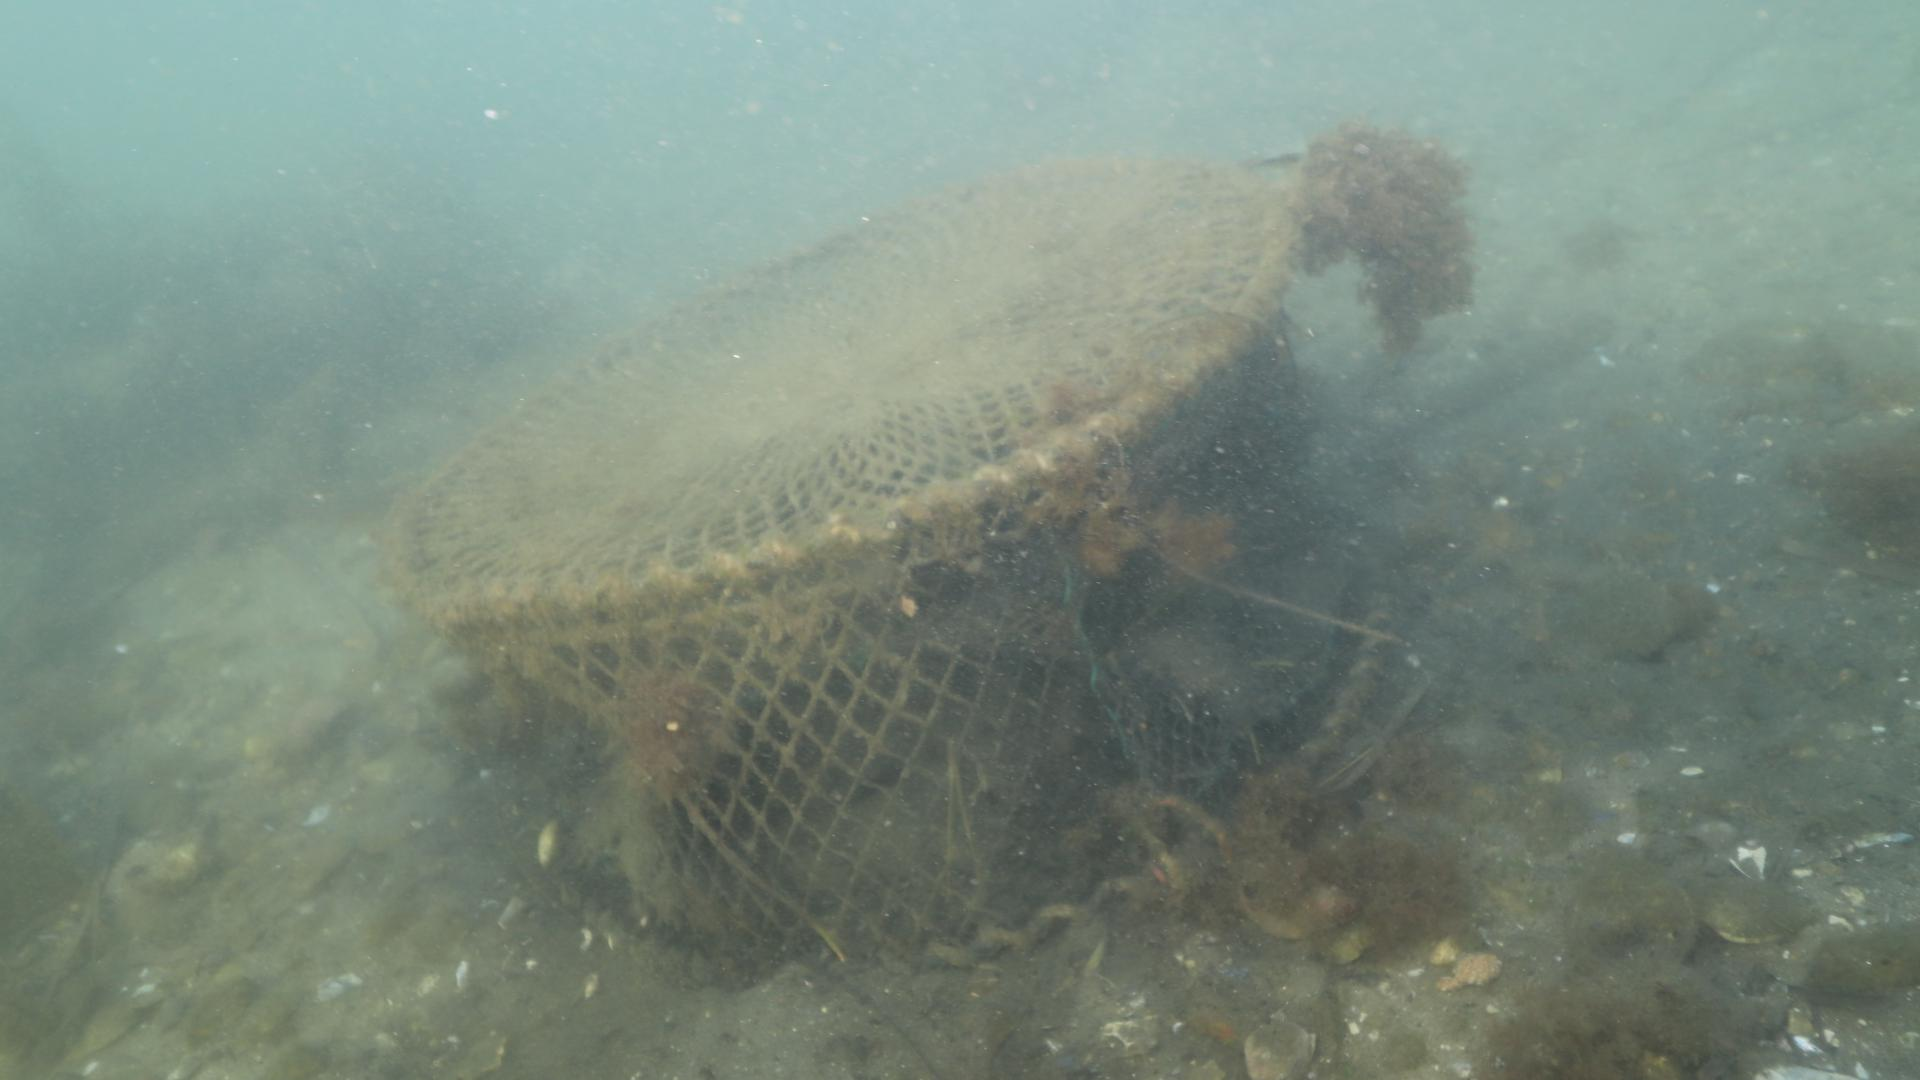circular fish trap: (375, 152, 1403, 986)
